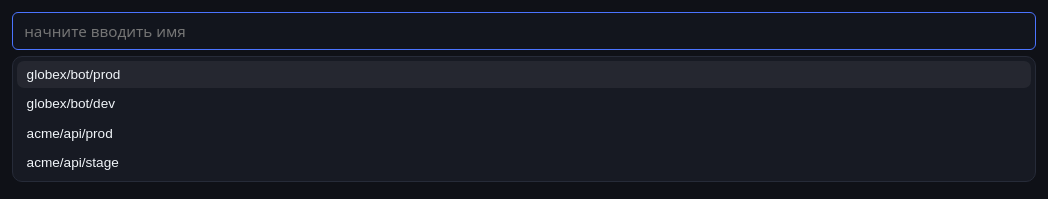
PickInput › ищет по кускам в любом порядке
The image size is (1048, 199).
Type "glob bot" into the dropdown. click: point(524, 31)
box: [12,12,1036,50]
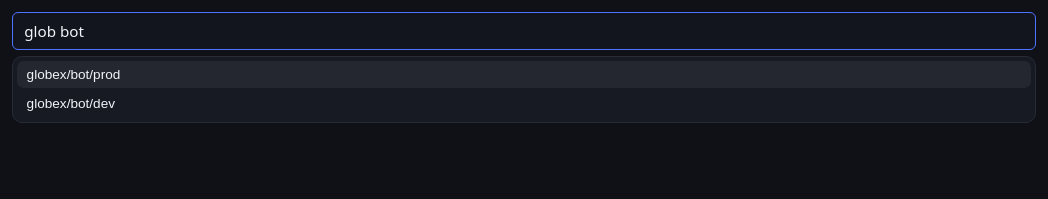
Expected: the options read "globex/bot/prod", "globex/bot/dev", in this order, [17,61,1031,88]; [17,90,1031,118]
